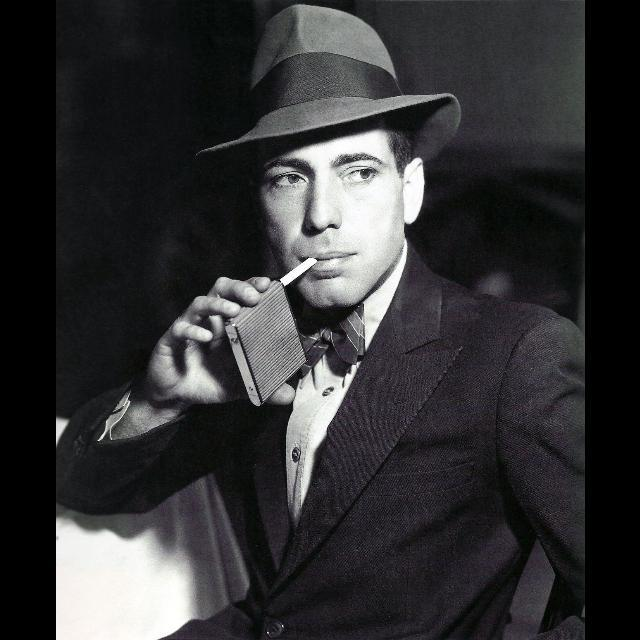rokok: (277, 251, 319, 287)
